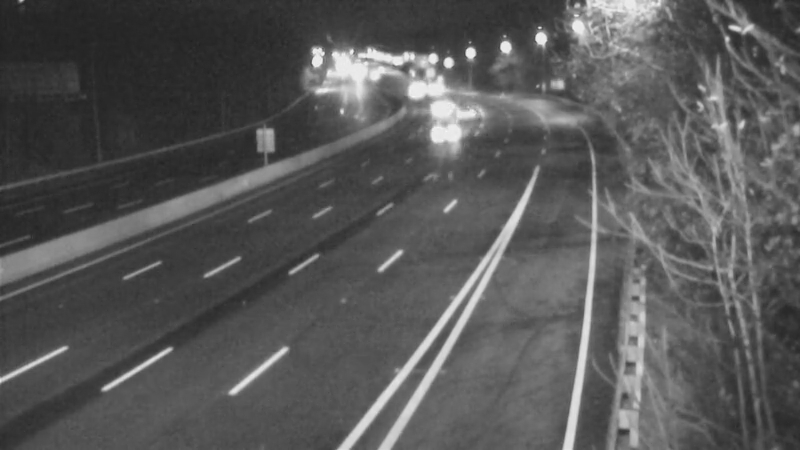vehicle: (413, 82, 463, 132), (437, 88, 487, 138), (426, 108, 476, 158)
